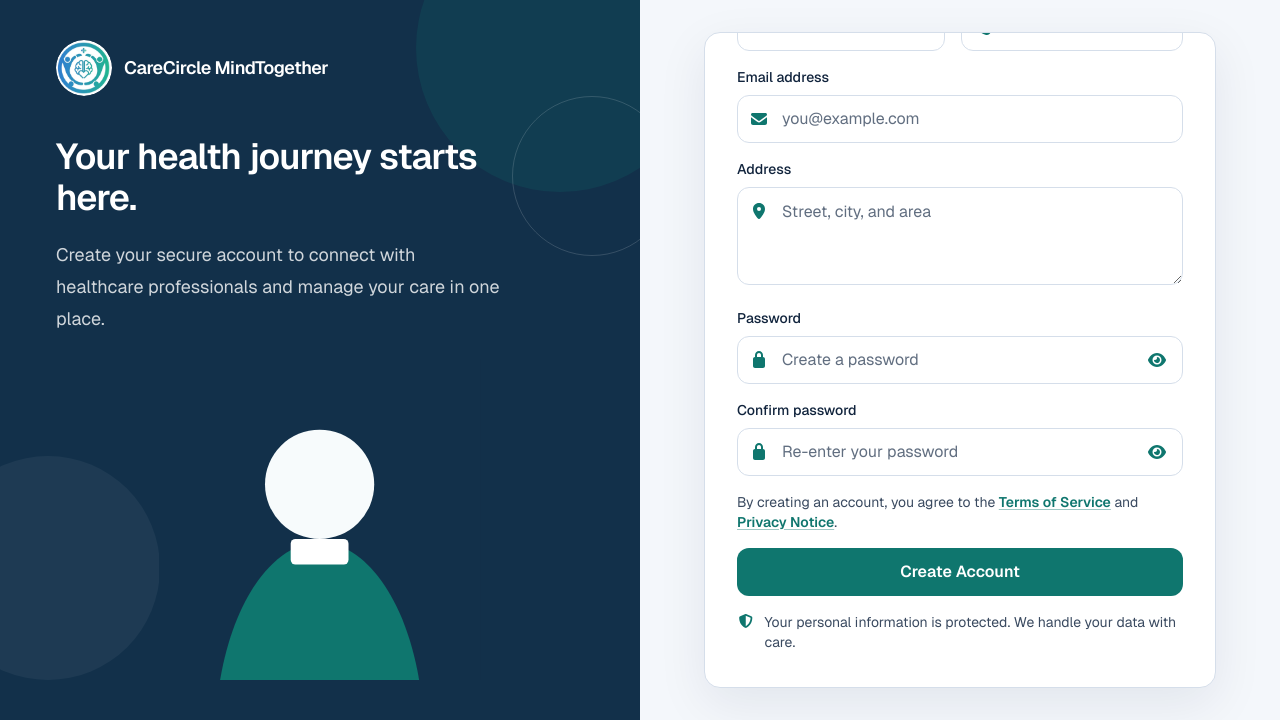
Test: registration form › exposes labelled fields, blocks an empty submit, and toggles password visibility
(page scrolled)
Expected: the field labelled "Email address" is shown, top-left (737, 94), bottom-right (1183, 142)
Expected: the password field labelled "Confirm password" is shown, top-left (737, 428), bottom-right (1183, 476)
Click the button named "Show password" at (1157, 360), box top-left (1135, 338), bottom-right (1179, 382)
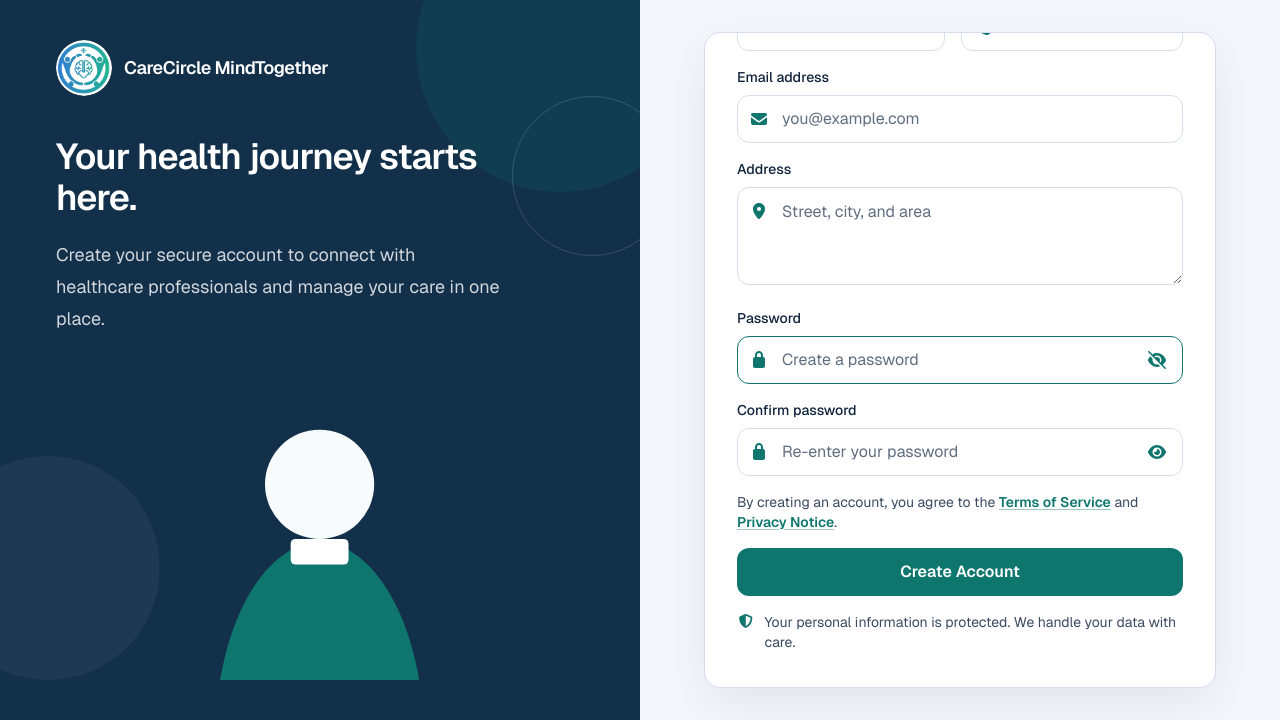
Type "CorrectHorse12" into the field labelled "Password" at (960, 360), box top-left (737, 336), bottom-right (1183, 384)
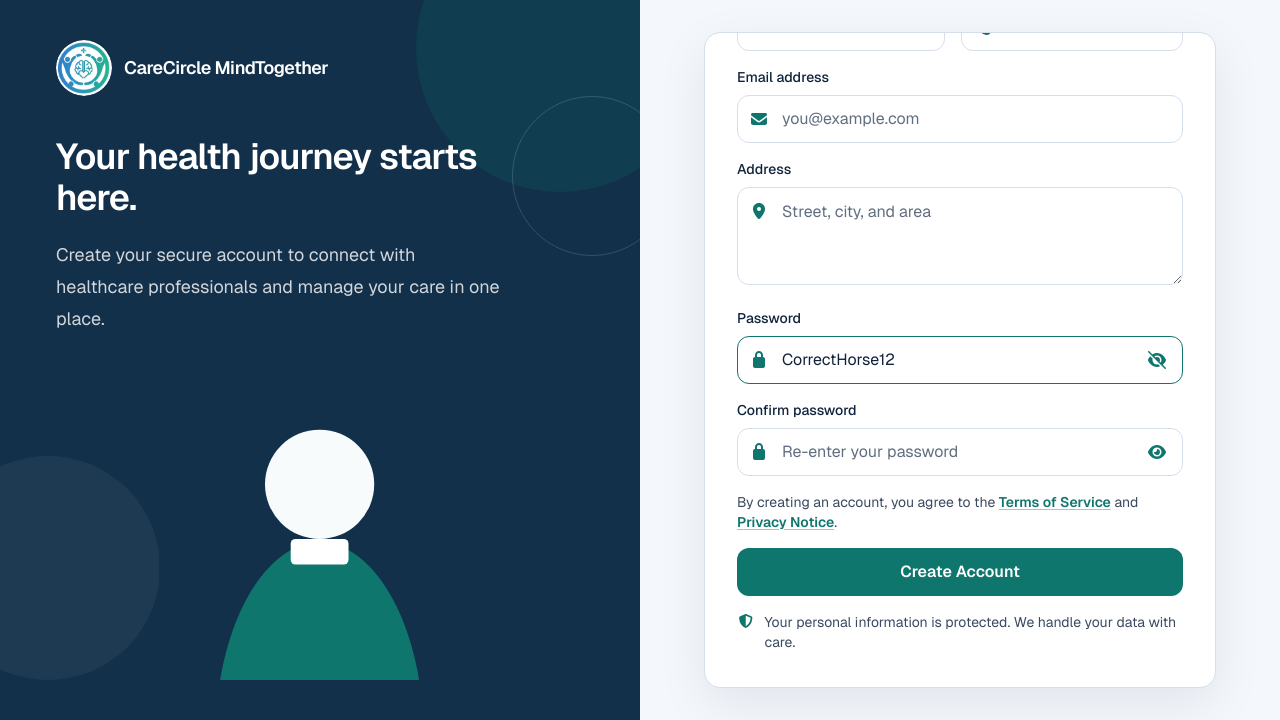
Clear the field labelled "Password" at (960, 360), box top-left (737, 336), bottom-right (1183, 384)
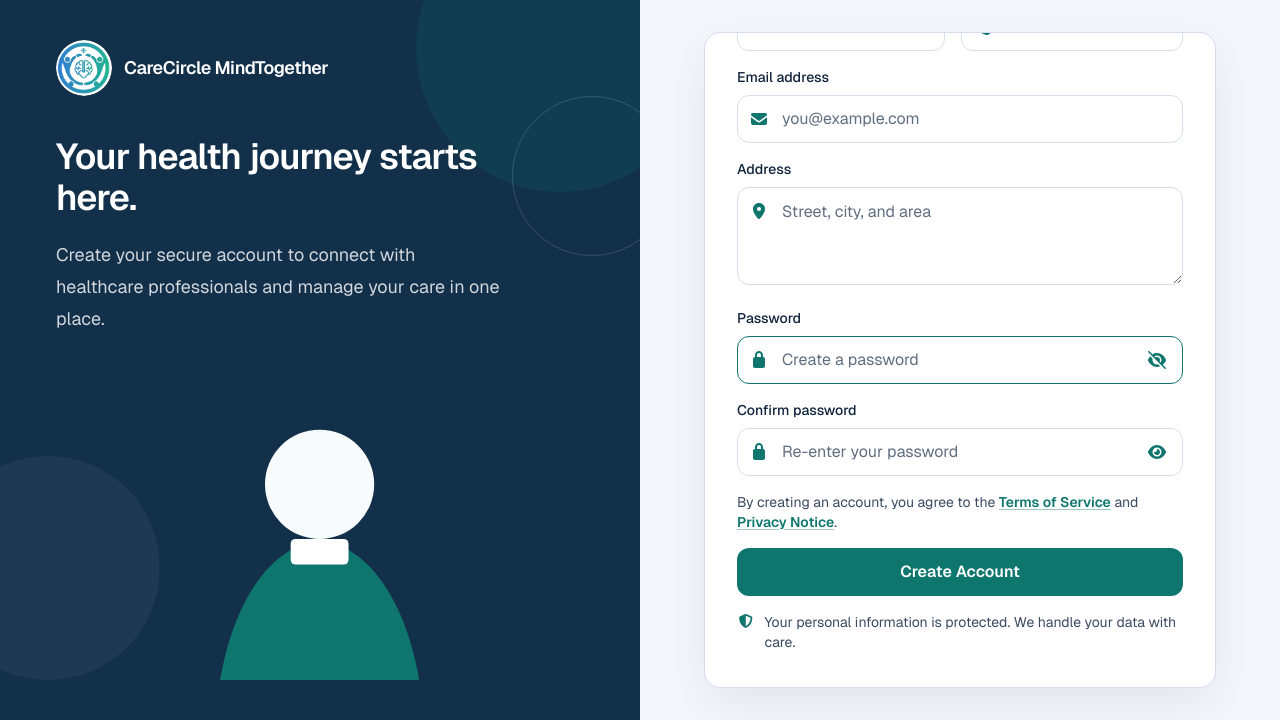
Click the button "Create Account" at (960, 572), box top-left (737, 548), bottom-right (1183, 596)
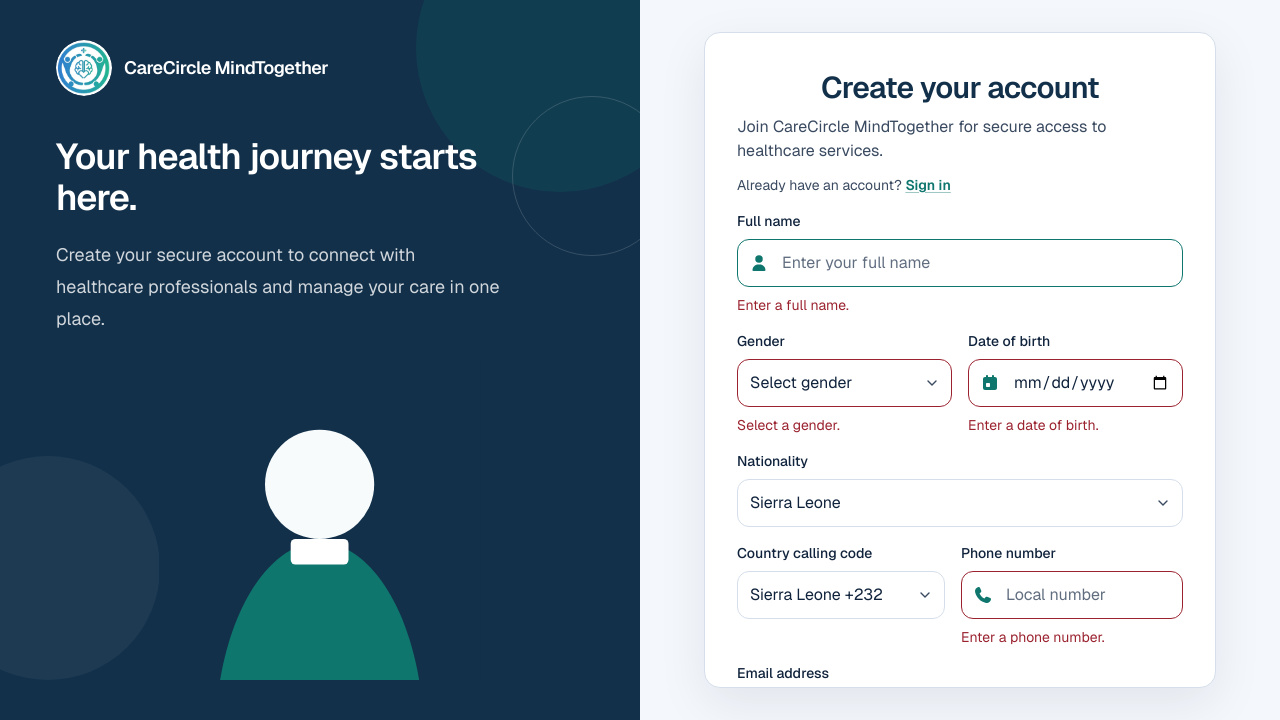
Expected: the text "Enter a full name." is shown, top-left (737, 296), bottom-right (849, 314)
